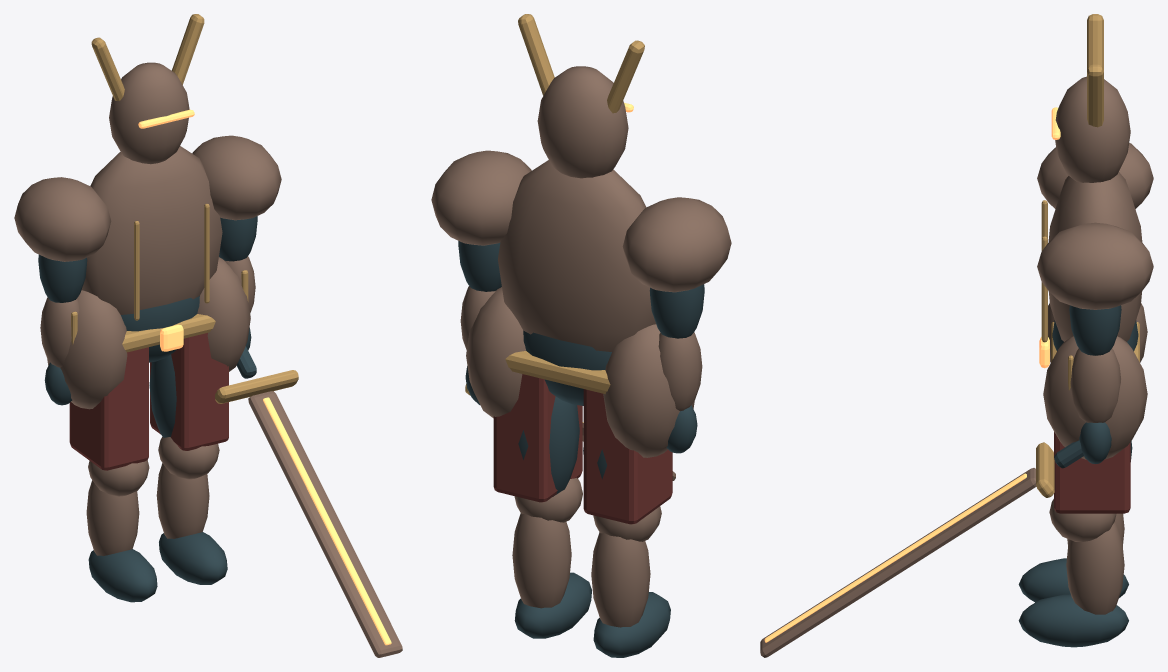
The model's file is sentinel.glb.
3 renders of one model, left to right at view 1: azimuth 30°, elevation 25°; view 2: azimuth 150°, elevation 25°; view 3: azimuth 270°, elevation 25°, orthographic. The views are drawn at different scales.
Parts seen in each view (by area): view 1: Breastplate, Blade, Pauldron, Tabard, Face, Tabard.001, Hip guard, Pauldron.001, Hip guard.001, Greave.001, Greave, Boot (+18 smaller); view 2: Breastplate, Pauldron, Face, Tabard, Hip guard, Pauldron.001, Tabard.001, Hip guard.001, Greave, Greave.001, Boot.001, Boot (+12 smaller); view 3: Pauldron.001, Face, Hip guard.001, Breastplate, Blade, Tabard.001, Greave.001, Boot.001, Bracer.001, Pauldron, Upper arm.001, Boot (+6 smaller).
Boxes of the visible parts, x1=… form: Breastplate: x1=81, y1=146, x2=222, y2=314; Blade: x1=248, y1=391, x2=402, y2=657; Pauldron: x1=14, y1=177, x2=111, y2=261; Tabard: x1=69, y1=347, x2=148, y2=470; Face: x1=109, y1=62, x2=189, y2=164; Tabard.001: x1=150, y1=333, x2=228, y2=450; Hip guard: x1=47, y1=290, x2=127, y2=409; Pauldron.001: x1=192, y1=135, x2=281, y2=220; Hip guard.001: x1=197, y1=257, x2=250, y2=371; Greave.001: x1=156, y1=463, x2=209, y2=538; Greave: x1=86, y1=480, x2=139, y2=555; Boot: x1=88, y1=549, x2=157, y2=602; Breastplate: x1=498, y1=160, x2=655, y2=351; Pauldron: x1=622, y1=197, x2=731, y2=292; Face: x1=537, y1=66, x2=628, y2=178; Tabard: x1=583, y1=389, x2=672, y2=524; Hip guard: x1=603, y1=324, x2=694, y2=457; Pauldron.001: x1=431, y1=150, x2=531, y2=245; Tabard.001: x1=493, y1=374, x2=582, y2=502; Hip guard.001: x1=466, y1=287, x2=525, y2=418; Greave: x1=591, y1=532, x2=650, y2=627; Greave.001: x1=512, y1=513, x2=571, y2=608; Boot.001: x1=514, y1=572, x2=591, y2=638; Boot: x1=593, y1=592, x2=670, y2=657; Pauldron.001: x1=1037, y1=222, x2=1153, y2=309; Face: x1=1055, y1=76, x2=1130, y2=182; Hip guard.001: x1=1043, y1=336, x2=1147, y2=459; Breastplate: x1=1048, y1=172, x2=1142, y2=341; Blade: x1=760, y1=468, x2=1036, y2=657; Tabard.001: x1=1054, y1=432, x2=1130, y2=513; Greave.001: x1=1066, y1=522, x2=1124, y2=614; Boot.001: x1=1018, y1=594, x2=1128, y2=647; Bracer.001: x1=1070, y1=348, x2=1120, y2=422; Pauldron: x1=1037, y1=143, x2=1153, y2=208; Upper arm.001: x1=1069, y1=305, x2=1121, y2=355; Boot: x1=1018, y1=558, x2=1128, y2=602.
Bounding box in the file's own units: 1 × 2.1 × 1.28.
